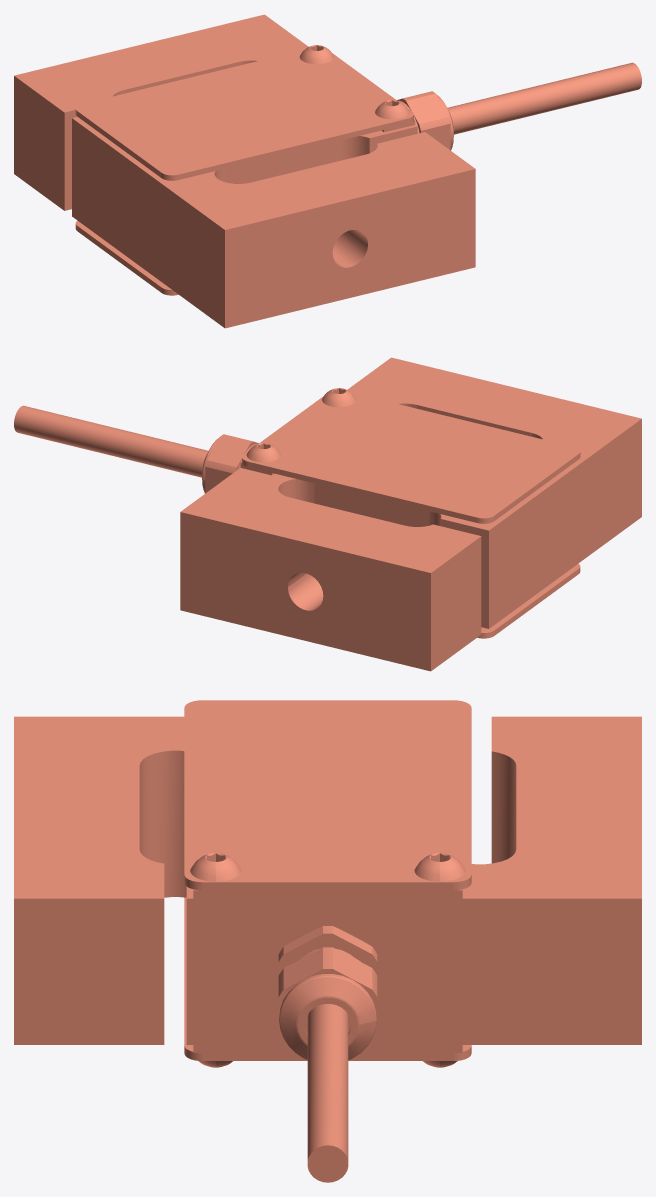
Rendered from 5e787590-a366-4534-85e1-d9fcba55cc8d.glb.
3 views of the same model, one above another, from view 1: azimuth 30°, elevation 25°; view 2: azimuth 150°, elevation 25°; view 3: azimuth 270°, elevation 25° (orthographic). The views are drawn at different scales.
Visible parts, largest first — view 1: DBBSM 50kg to 100kg body:1; view 2: DBBSM 50kg to 100kg body:1; view 3: DBBSM 50kg to 100kg body:1.
Boxes of the visible parts, x1,y1,x2,y2 form: DBBSM 50kg to 100kg body:1: [14, 14, 641, 328]; DBBSM 50kg to 100kg body:1: [14, 357, 641, 671]; DBBSM 50kg to 100kg body:1: [14, 700, 641, 1182].
Size of the model in its own units: 98.73 by 25.3 by 70.
